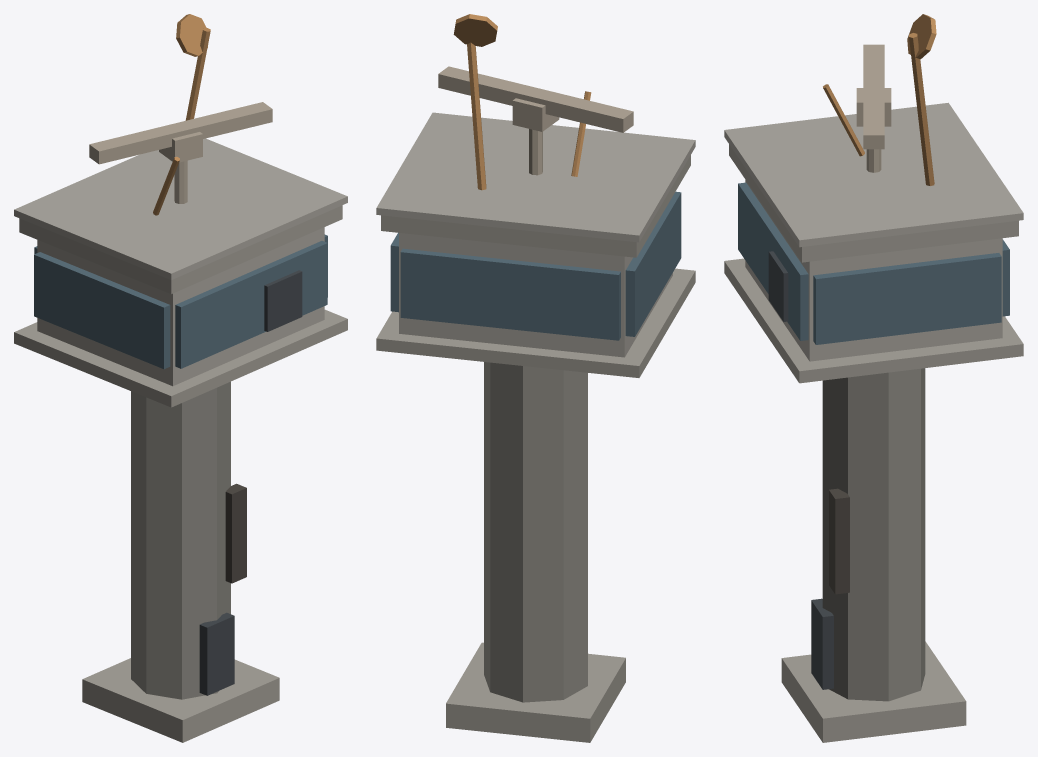
File: prop_control_tower.glb
3 views of the same model, side by side, from view 1: azimuth 30°, elevation 25°; view 2: azimuth 150°, elevation 25°; view 3: azimuth 270°, elevation 25° (orthographic). The views are drawn at different scales.
Parts seen in each view (by area): view 1: control_tower, trim_radar; view 2: control_tower, trim_radar; view 3: control_tower, trim_radar.
Boxes of the visible parts, <box> form: control_tower: <box>14,14,347,742</box>; trim_radar: <box>89,102,272,203</box>; control_tower: <box>376,14,695,742</box>; trim_radar: <box>438,66,633,175</box>; control_tower: <box>724,14,1023,742</box>; trim_radar: <box>856,44,891,172</box>.
Bounding box in the file's own units: 1.7 × 4.06 × 1.56.
